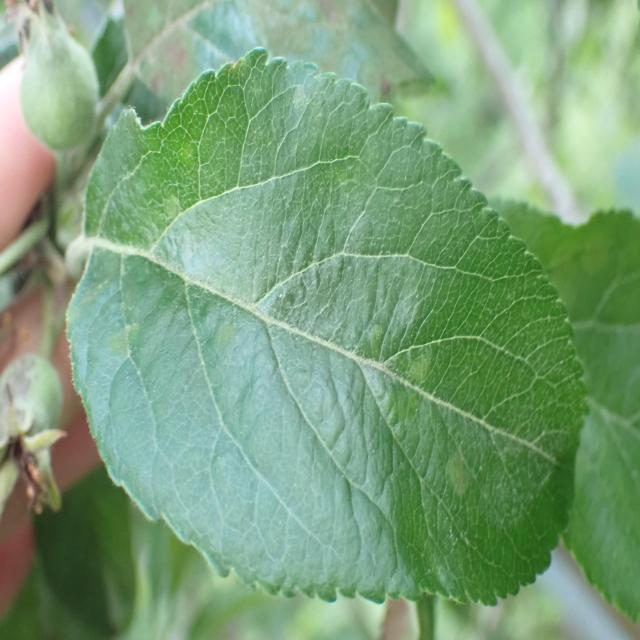scab: (80, 75, 550, 555)
